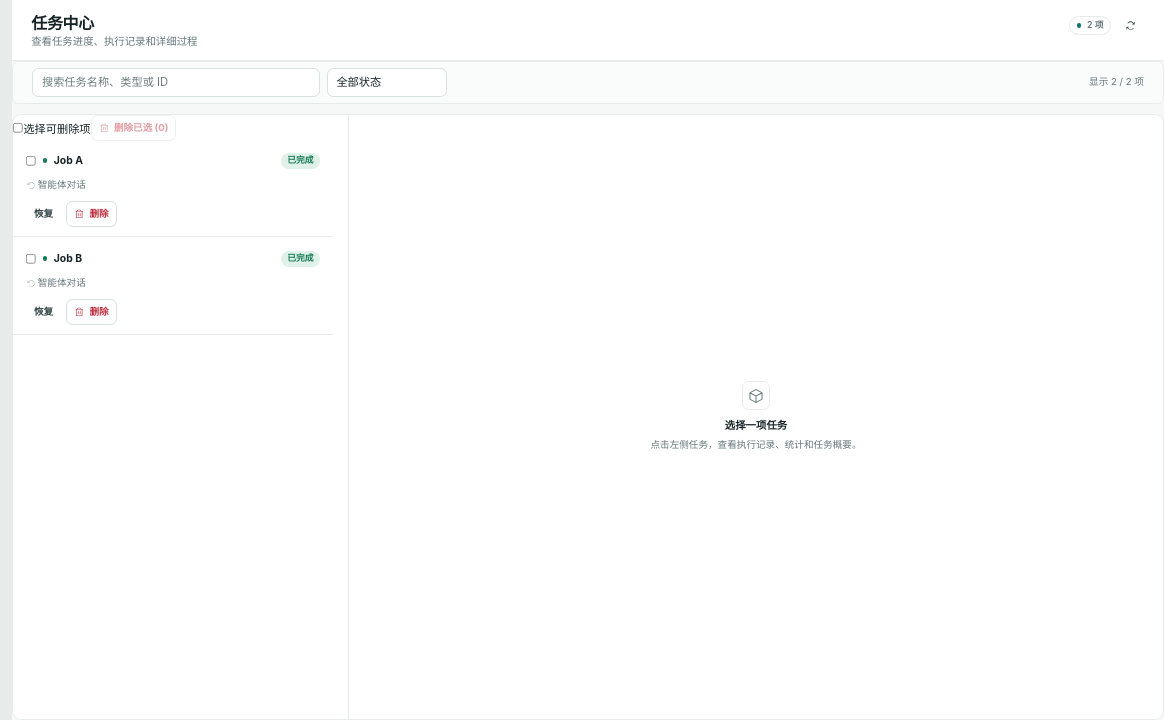
Test case: OperationsPage › ignores a late run response from the previously selected job
Click the text "Job A" at coordinates (68, 161), box [54,154,83,167]
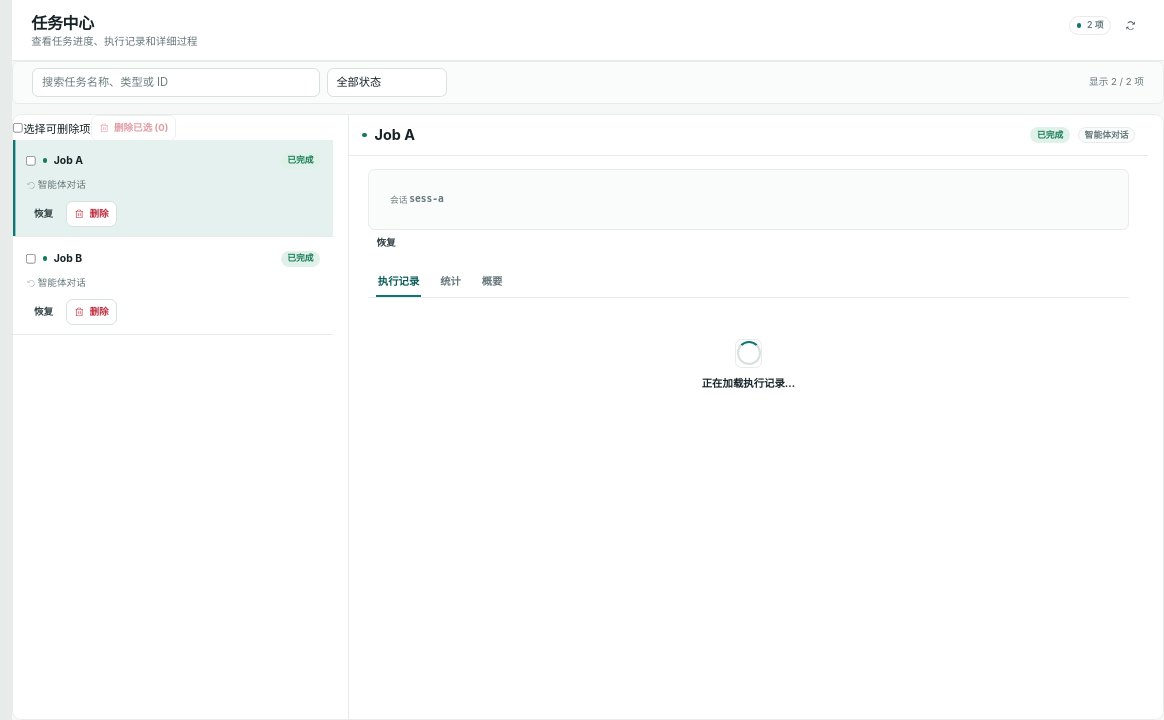
Click the text "Job B" at coordinates (68, 258), box [54,252,82,264]
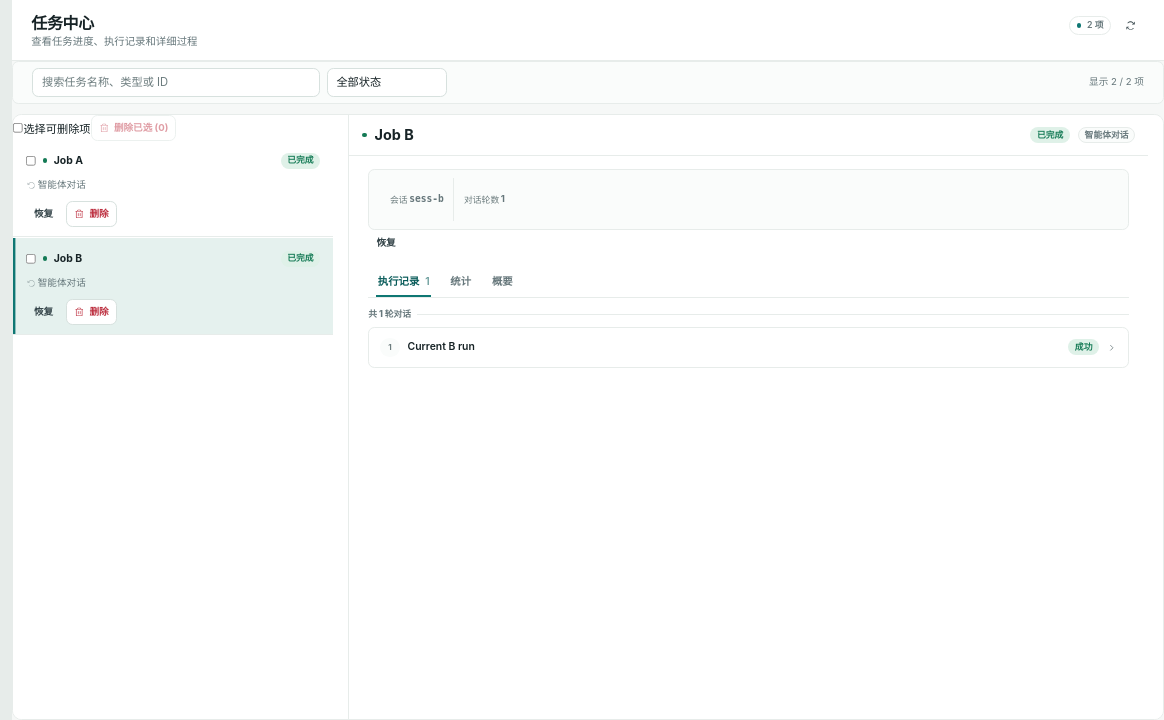
Result: the text "Current B run" is shown at [408,340,475,353]
